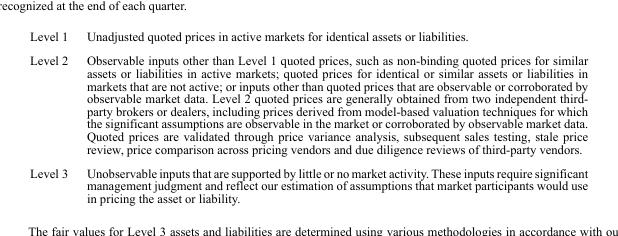table: (29, 29, 587, 204)
table column: (76, 29, 587, 204), (29, 29, 76, 204)
table row: (29, 48, 587, 160), (29, 160, 587, 204), (29, 29, 587, 48)
